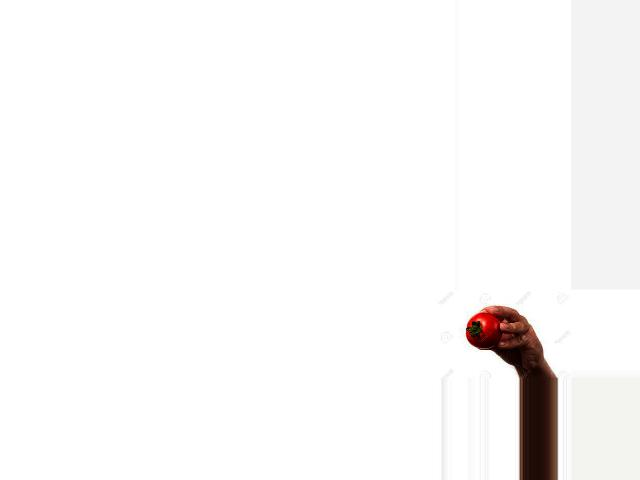tomato: (465, 313, 501, 349)
